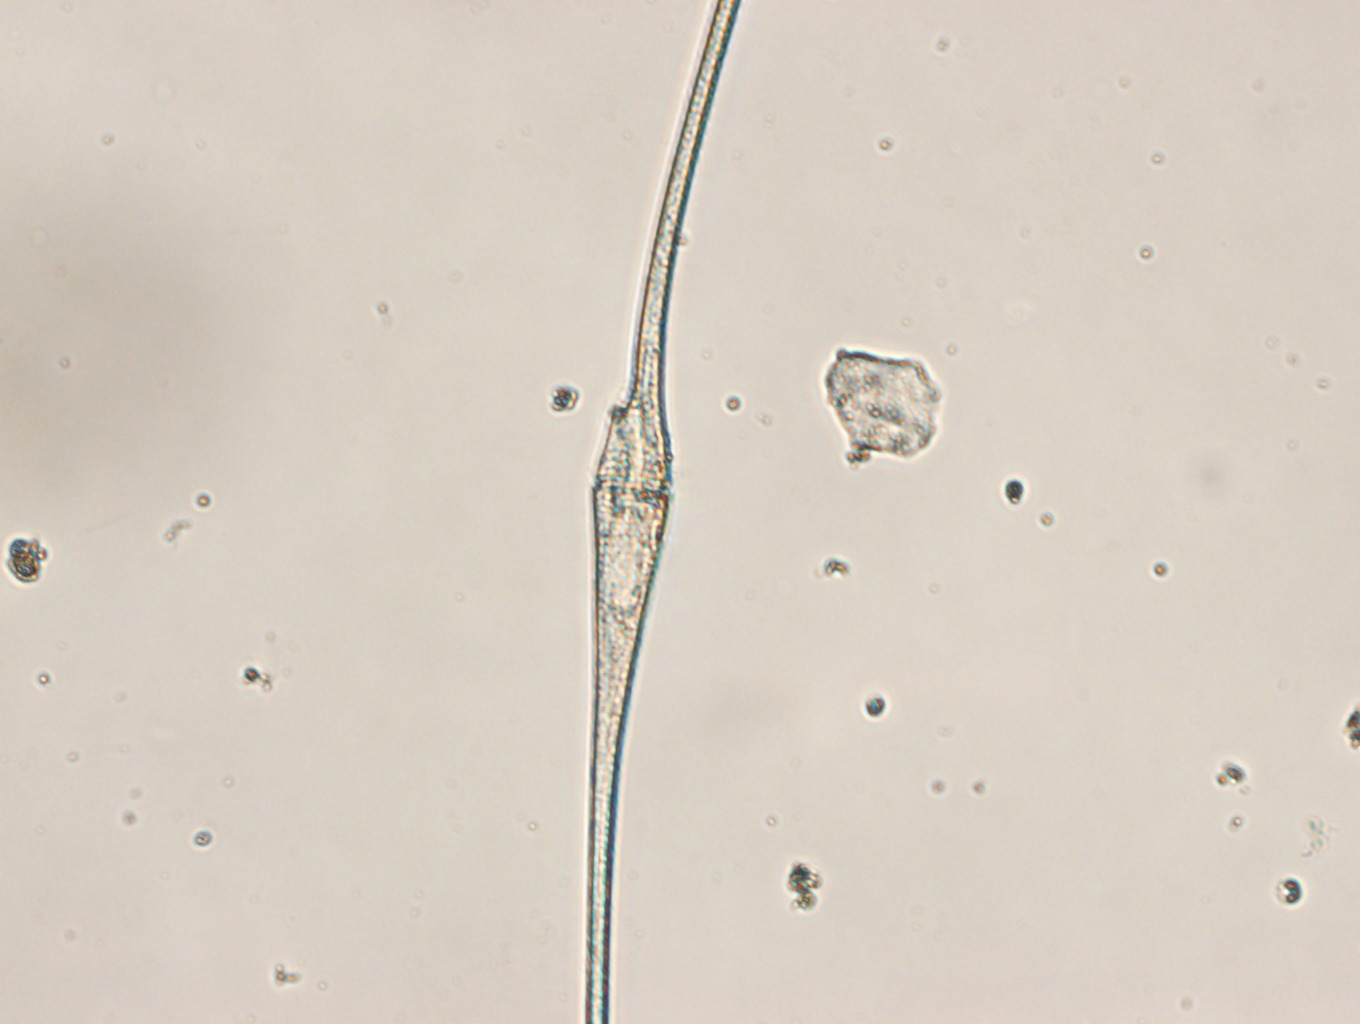ceratium fusus: (588, 1, 739, 1022)
